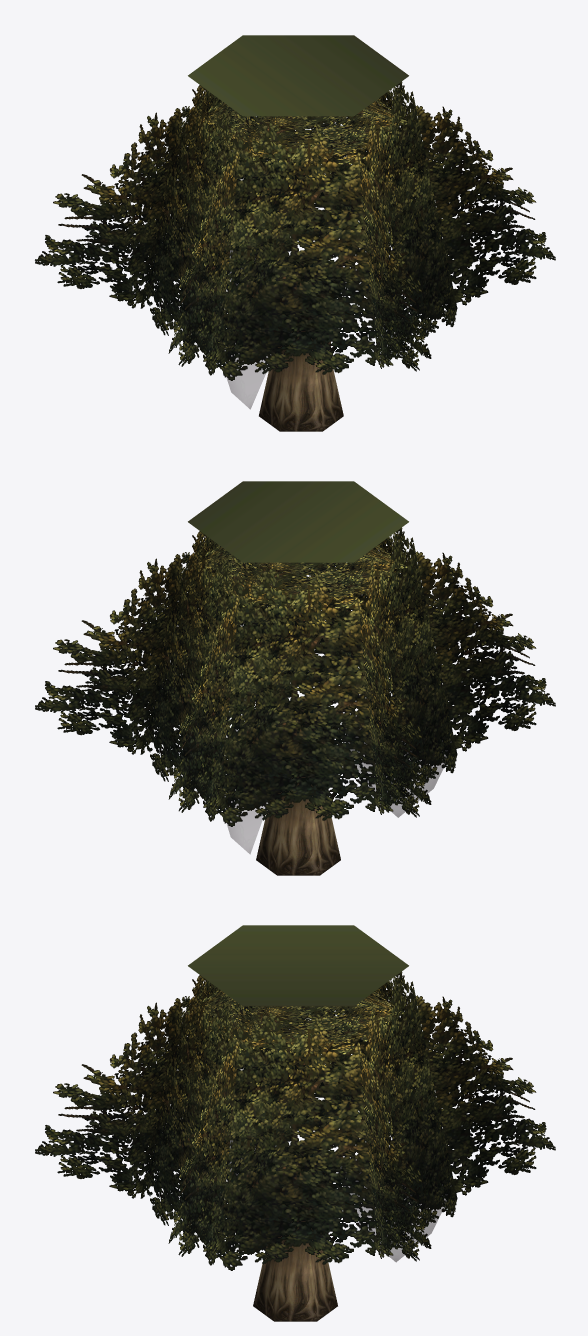
Rendered from duskwoodtreecanopy02.obj.
3 renders of one model, top to bottom at view 1: azimuth 30°, elevation 25°; view 2: azimuth 150°, elevation 25°; view 3: azimuth 270°, elevation 25°, orthographic.
Parts seen in each view (by area): view 1: Geoset1, Geoset3, Geoset0, Geoset2; view 2: Geoset1, Geoset3, Geoset0, Geoset2; view 3: Geoset1, Geoset3, Geoset0, Geoset2.
Part boxes in pixels (x1,y1,x2,y2): Geoset1: [35, 81, 555, 380]; Geoset3: [188, 35, 408, 116]; Geoset0: [259, 257, 343, 431]; Geoset2: [224, 242, 275, 409]; Geoset1: [35, 527, 555, 826]; Geoset3: [188, 481, 408, 562]; Geoset0: [256, 700, 340, 875]; Geoset2: [224, 728, 451, 854]; Geoset1: [35, 971, 555, 1270]; Geoset3: [188, 925, 408, 1006]; Geoset0: [253, 1147, 337, 1321]; Geoset2: [228, 1132, 451, 1262].
Bounding box in the file's own units: 84.6 × 64.34 × 96.14.
Materials: 5 (5 with a texture image).
